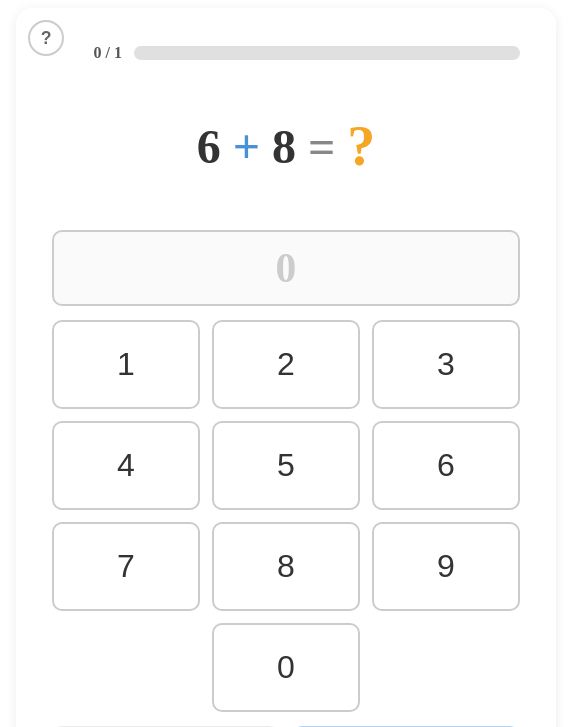
Test: MathSolver › shows completion screen after all problems
Click the button with test id "digit-btn-5". click: (286, 466)
box: [212,421,360,510]
(page scrolled)
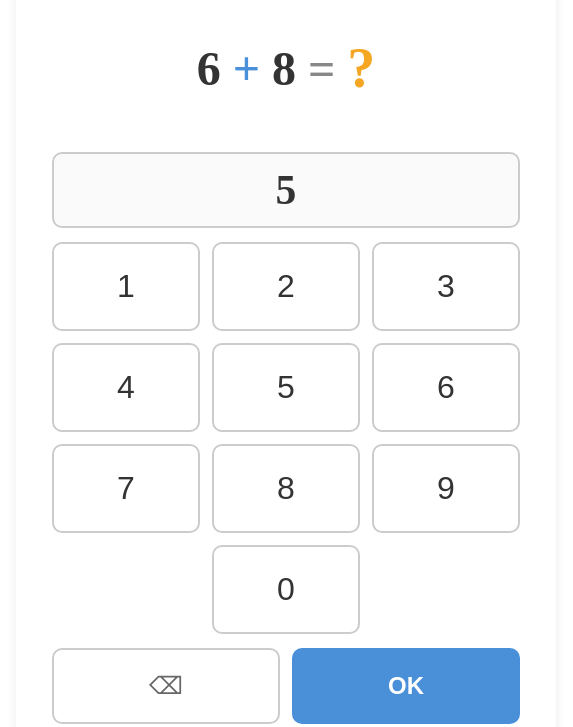
Now the button with test id "submit-btn" is enabled
Click the button with test id "submit-btn". click: (406, 686)
box: [292,648,520,724]
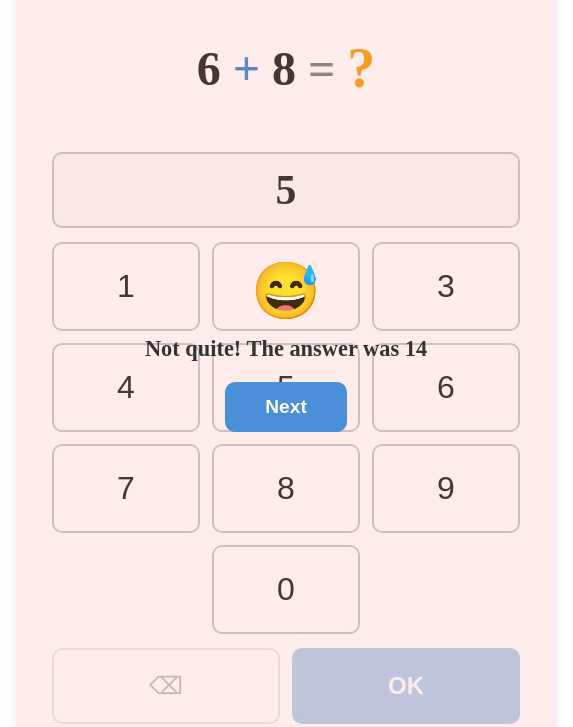
Click the button "Next". click: (286, 407)
box: [225,382,347,432]
(page scrolled)
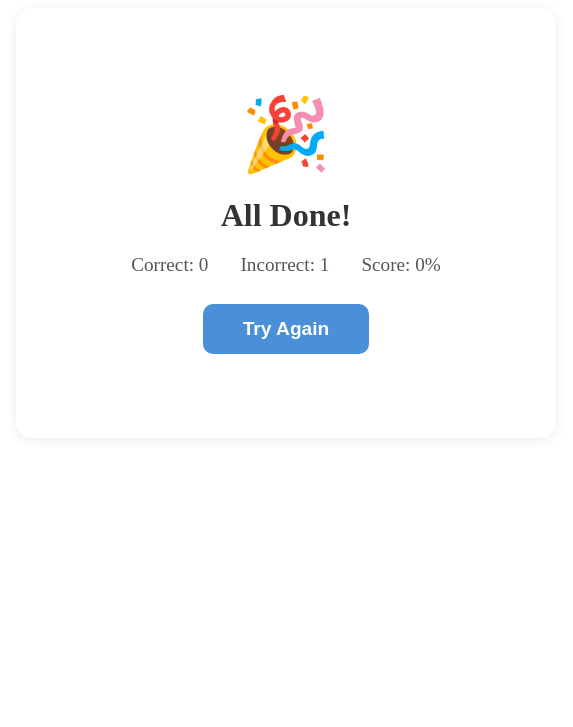
Now the heading "All Done!" is shown, box [221,197,351,234]
Now the button "Try Again" is shown, box [203,304,369,354]
